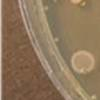white: (70, 49, 96, 75), (67, 0, 82, 6)
